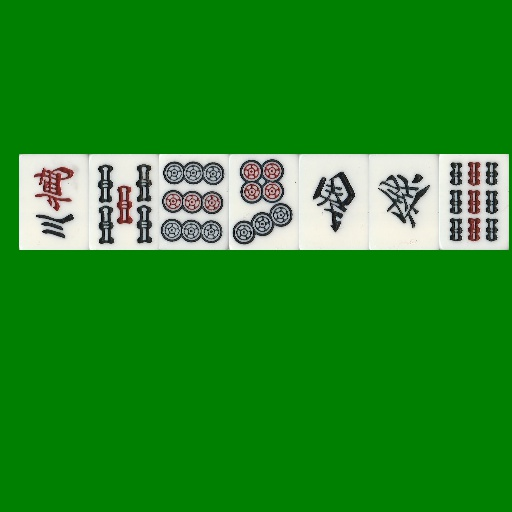3m: (19, 154, 89, 250)
5s: (89, 154, 159, 250)
7p: (229, 154, 299, 250)
9p: (159, 154, 229, 250)
9s: (439, 154, 509, 250)
hatsu: (369, 154, 439, 250)
south: (299, 154, 369, 250)
